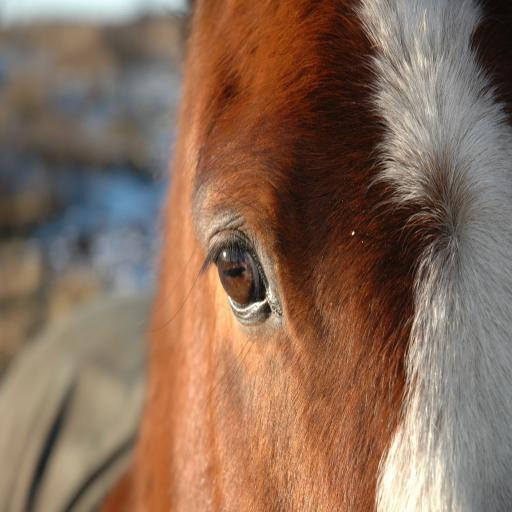Horse: (94, 0, 512, 512)
